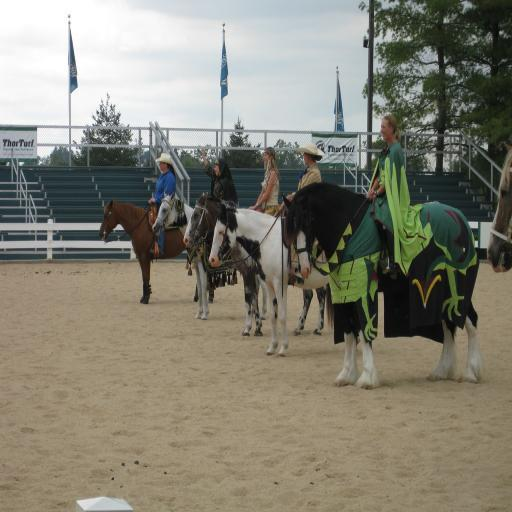horse: (98, 182, 484, 392), (180, 188, 334, 337), (207, 202, 334, 358), (152, 190, 266, 322), (98, 202, 216, 306), (487, 140, 512, 272)
